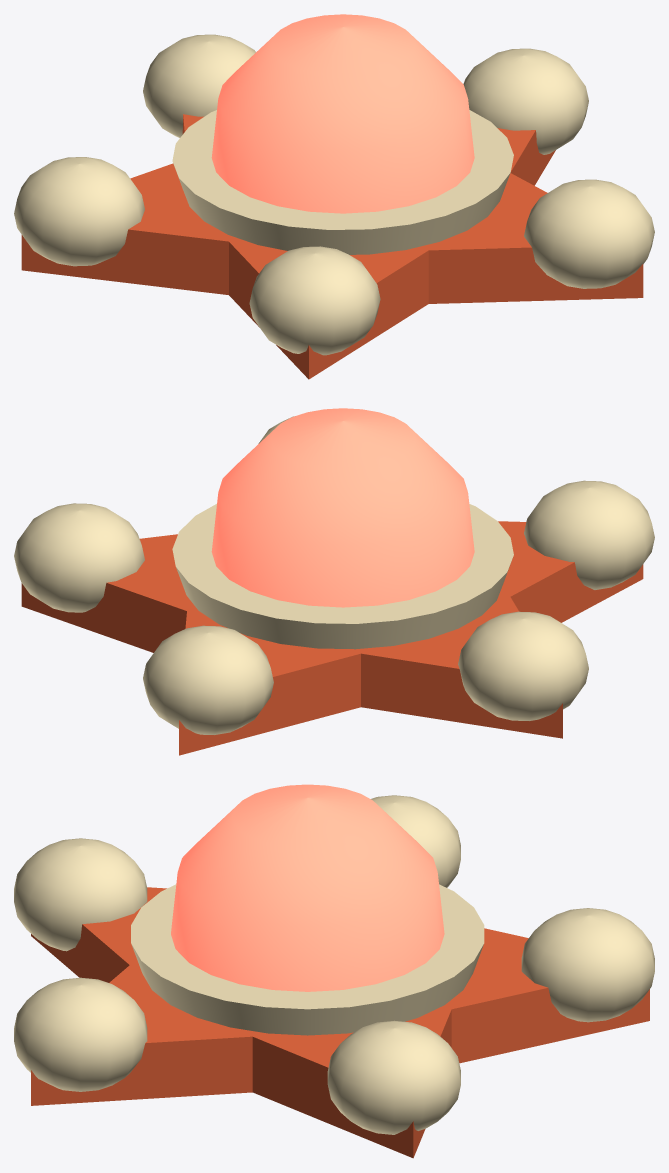
File: R4D_ExplosiveTrap.fbx
The picture shows the model from 3 angles, top to bottom: view 1: azimuth 30°, elevation 25°; view 2: azimuth 150°, elevation 25°; view 3: azimuth 270°, elevation 25°; orthographic projection. The views are drawn at different scales.
Parts seen in each view (by area): view 1: R4D_ExplosiveTrap_Body, R4D_ExplosiveTrap_Lamp; view 2: R4D_ExplosiveTrap_Body, R4D_ExplosiveTrap_Lamp; view 3: R4D_ExplosiveTrap_Body, R4D_ExplosiveTrap_Lamp.
Part boxes in pixels (box(x1,y1,x2,y2)): R4D_ExplosiveTrap_Body: box(14, 34, 654, 379); R4D_ExplosiveTrap_Lamp: box(211, 14, 474, 213); R4D_ExplosiveTrap_Body: box(14, 416, 654, 755); R4D_ExplosiveTrap_Lamp: box(211, 408, 474, 607); R4D_ExplosiveTrap_Body: box(14, 795, 654, 1158); R4D_ExplosiveTrap_Lamp: box(171, 784, 444, 991).
Bounding box in the file's own units: 0.4899 × 0.18 × 0.4683.
